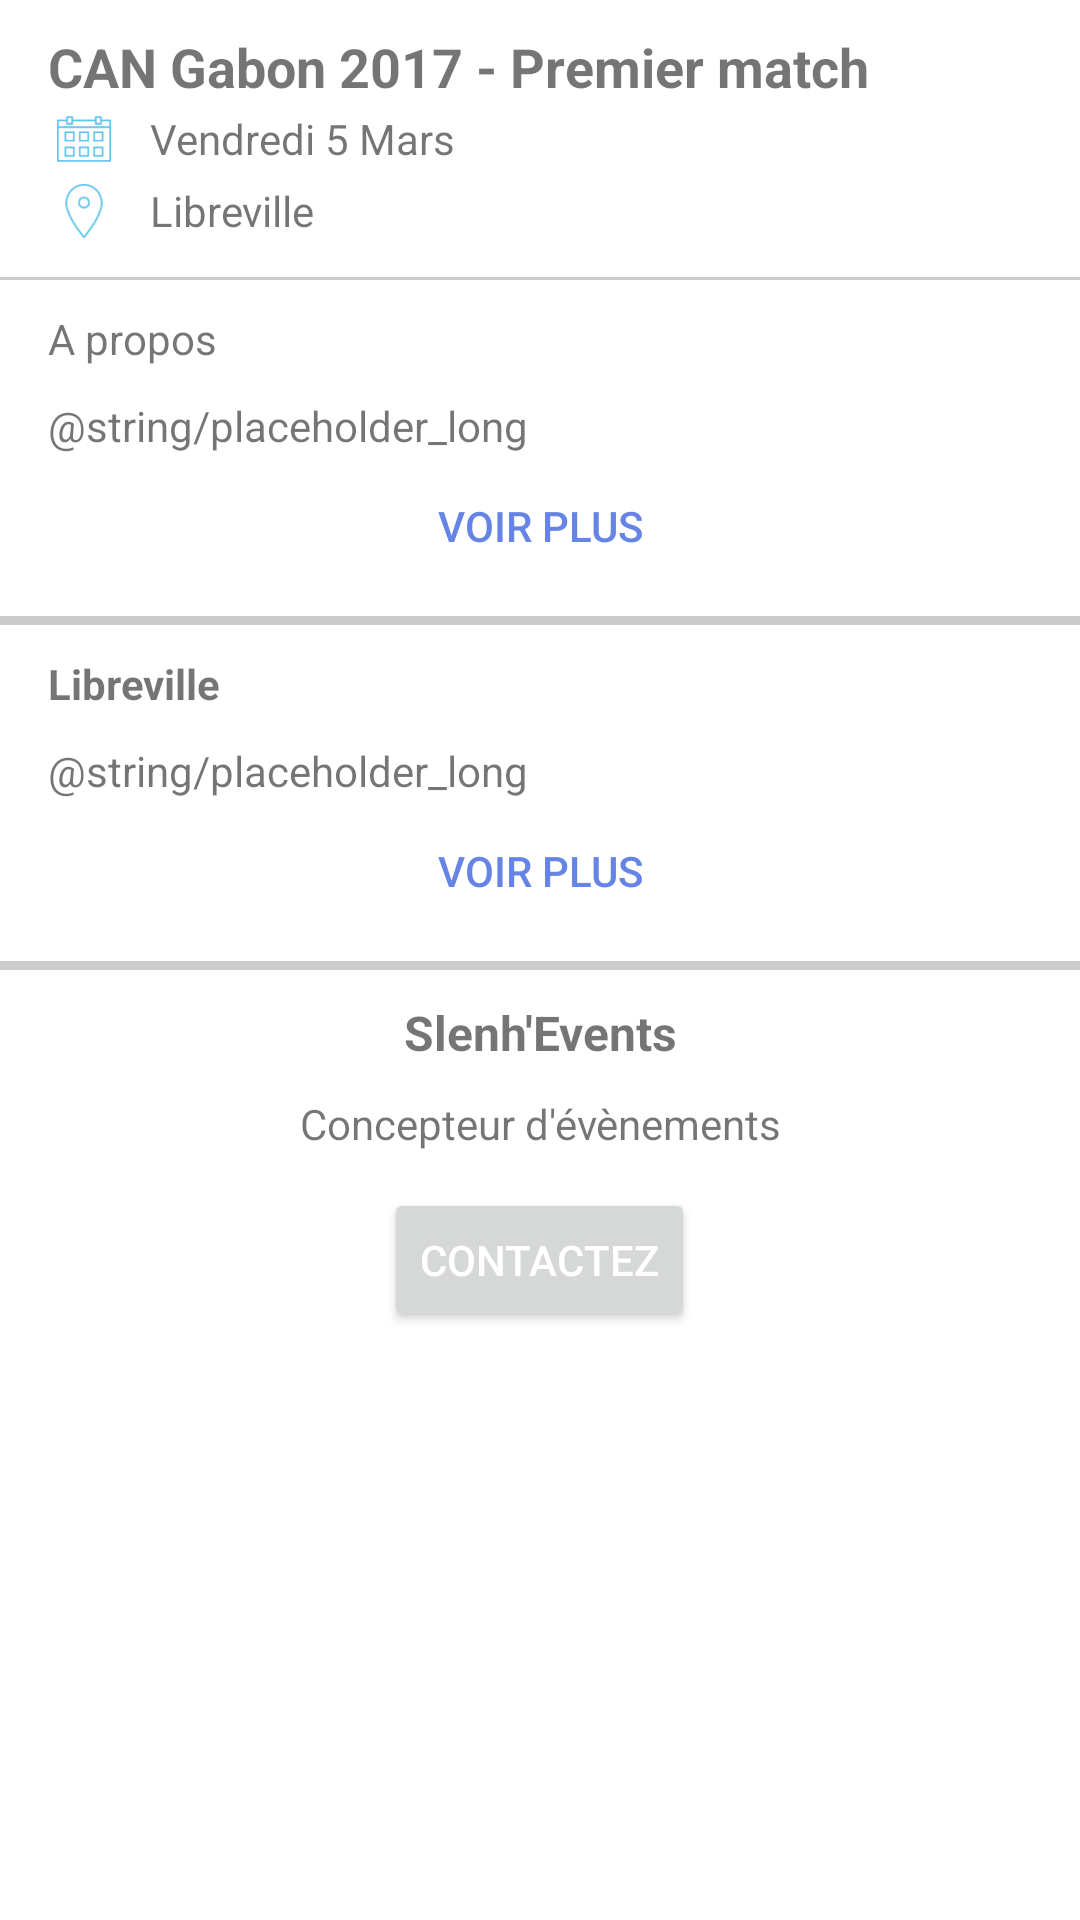

Where to tap for icons on this 1080x1920 app screen, as (x=x, y=y):
calendar: (x=84, y=139)
geolocalize: (x=84, y=211)
